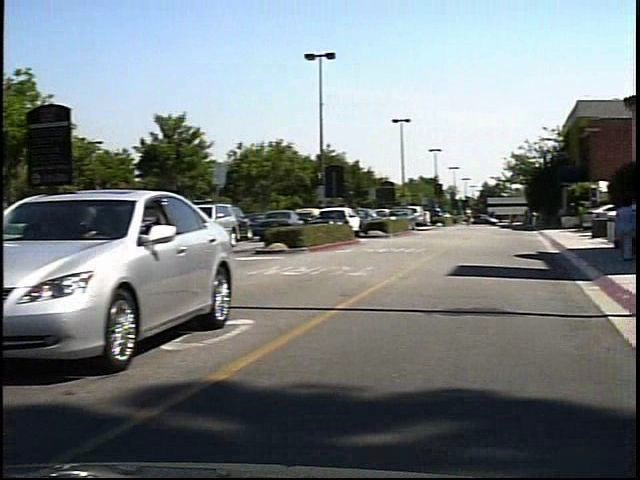person: (473, 207, 486, 228)
